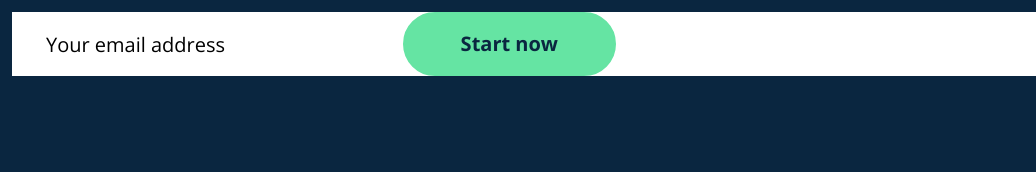
Test: SignupForm › confirms and clears the field for a valid email address
Type "jane@example.com" into the field labelled "email address" at (195, 44), box [12, 16, 379, 72]
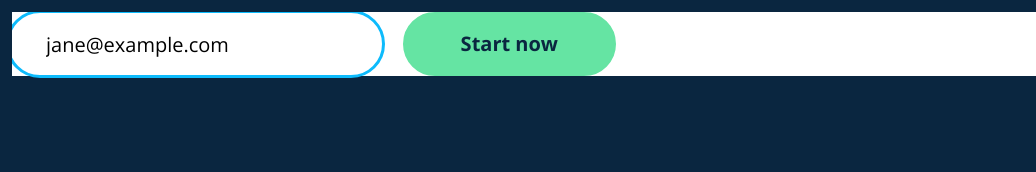
Click the button "Start now" at (509, 44), box [403, 12, 616, 76]
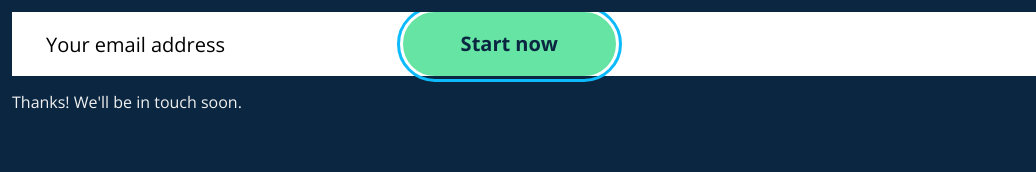
Expected: the message reads "Thanks! We'll be in touch soon.", [12, 91, 242, 113]
Expected: the field labelled "email address" is empty, [12, 16, 379, 72]
